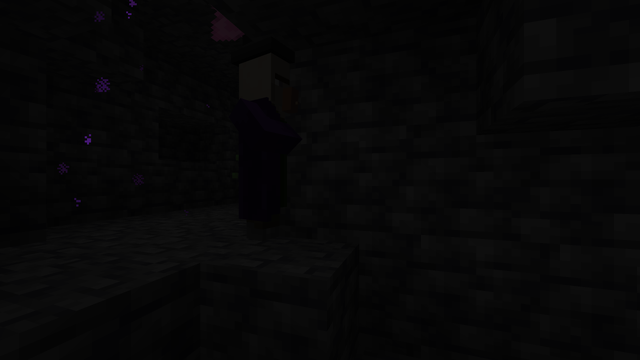sorcieres: (230, 42, 294, 244)
